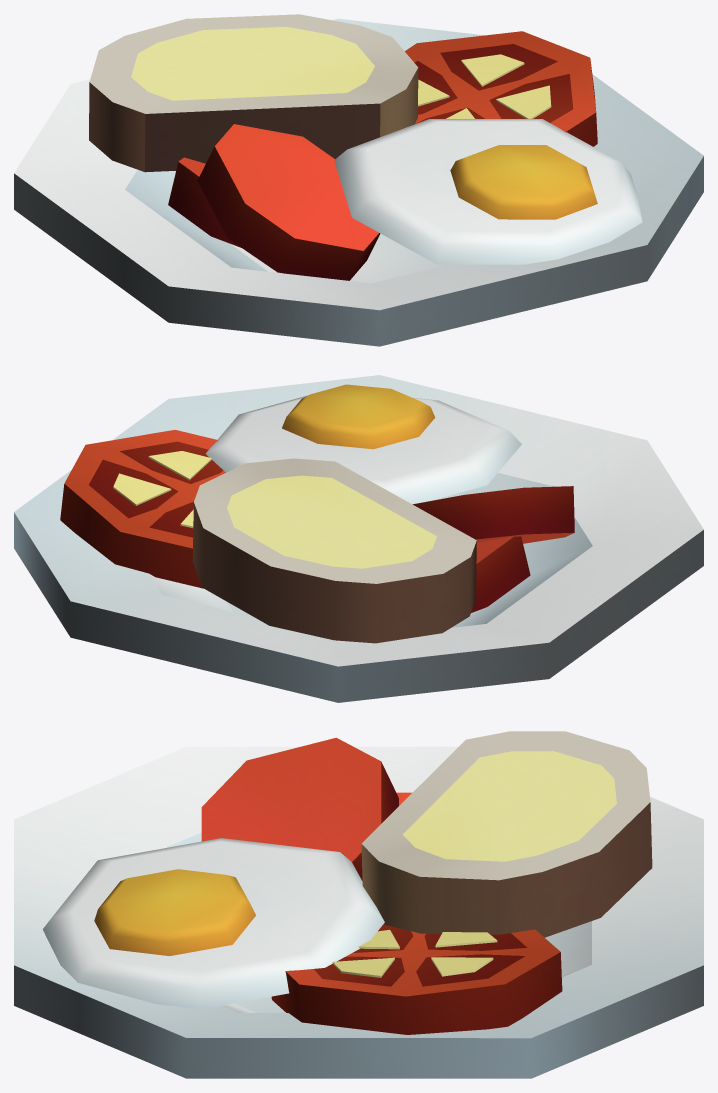
Rendered from plate_egg_bread_tomato.fbx.
3 renders of one model, top to bottom at view 1: azimuth 30°, elevation 25°; view 2: azimuth 150°, elevation 25°; view 3: azimuth 270°, elevation 25°, orthographic. The views are drawn at different scales.
Visible parts, largest first — view 1: plate_egg_bread_tomato; view 2: plate_egg_bread_tomato; view 3: plate_egg_bread_tomato.
Boxes of the visible parts, x1=… form: plate_egg_bread_tomato: x1=14, y1=14, x2=703, y2=346; plate_egg_bread_tomato: x1=14, y1=375, x2=703, y2=702; plate_egg_bread_tomato: x1=14, y1=731, x2=703, y2=1078.
Size of the model in its own units: 51.71 by 13.47 by 51.71.
